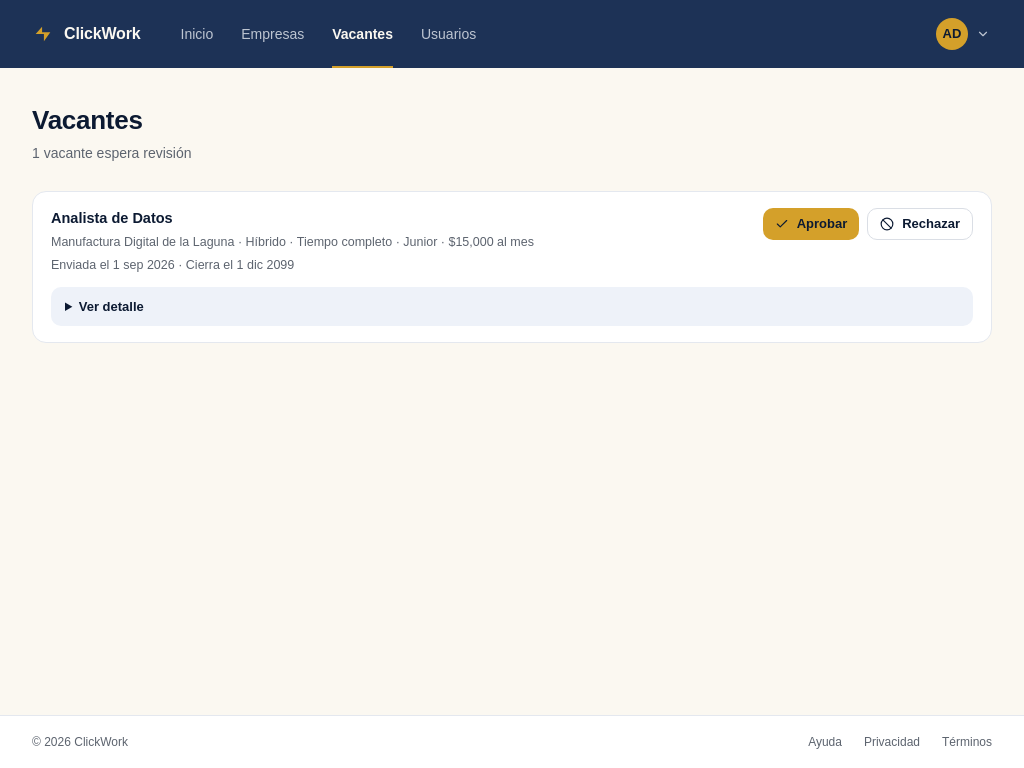
Test: AdminJobsPage › rejects a posting with a reason
The width and height of the screenshot is (1024, 768).
Click the button with aria-label "Rechazar Analista de Datos": click(920, 224) 867,208 -> 973,240
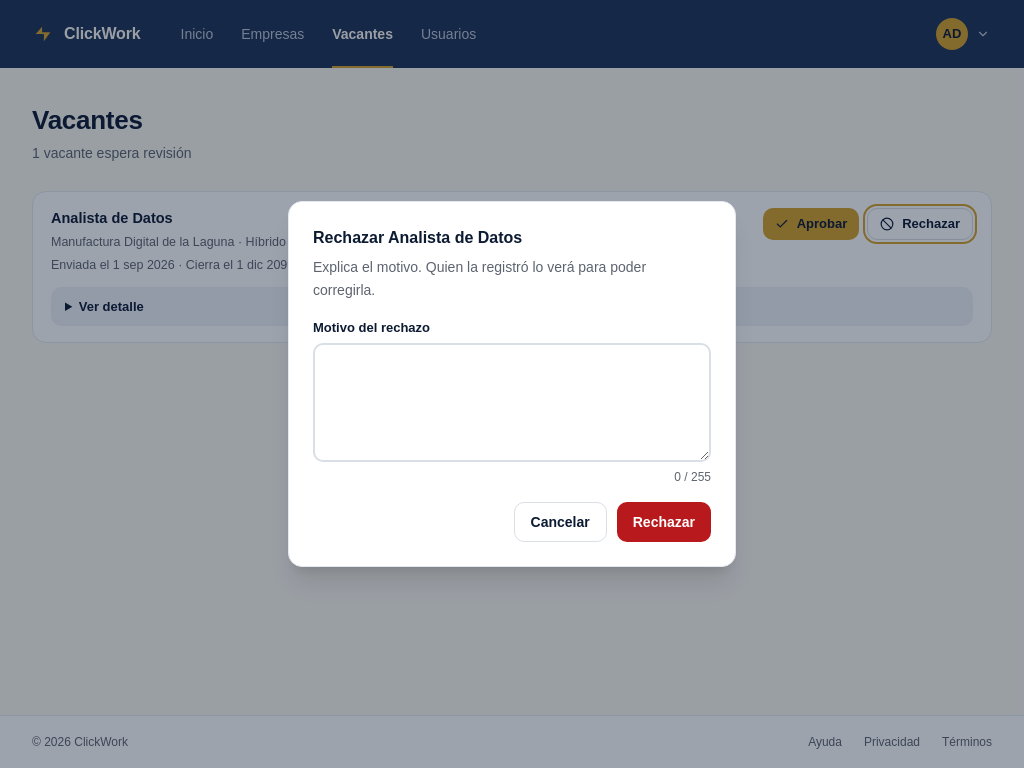
In the text box labelled "Motivo del rechazo": (512, 402) 313,343 -> 711,462, type "Falta el sueldo"
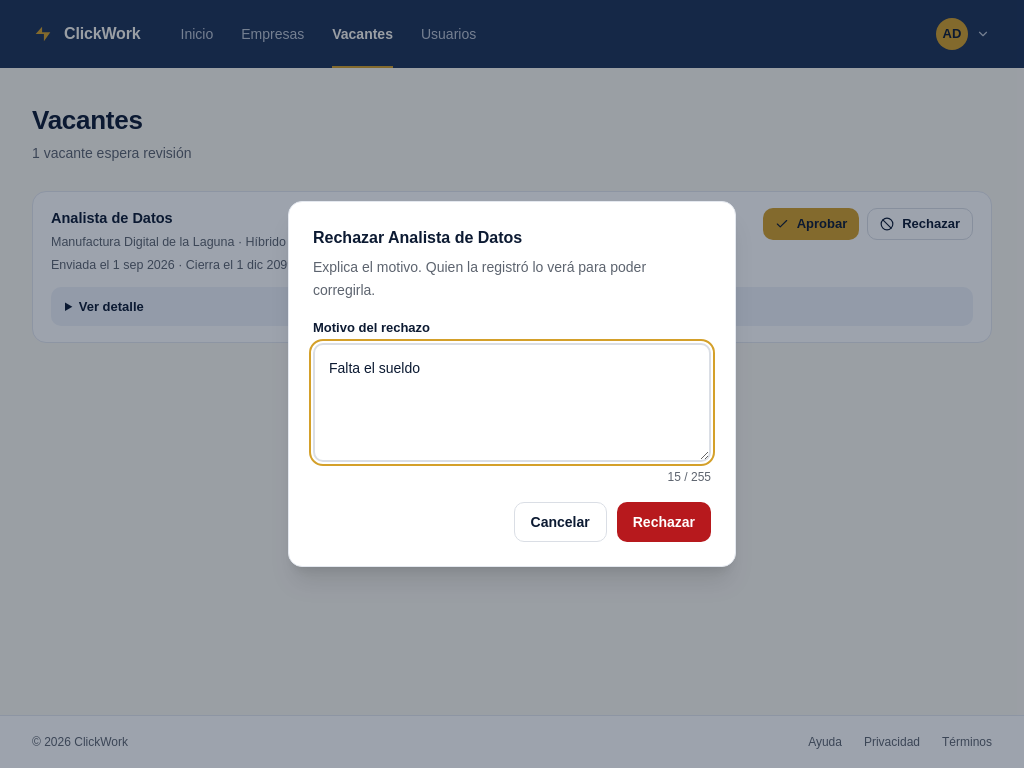
Click the button "Rechazar": click(664, 522) 617,502 -> 711,542
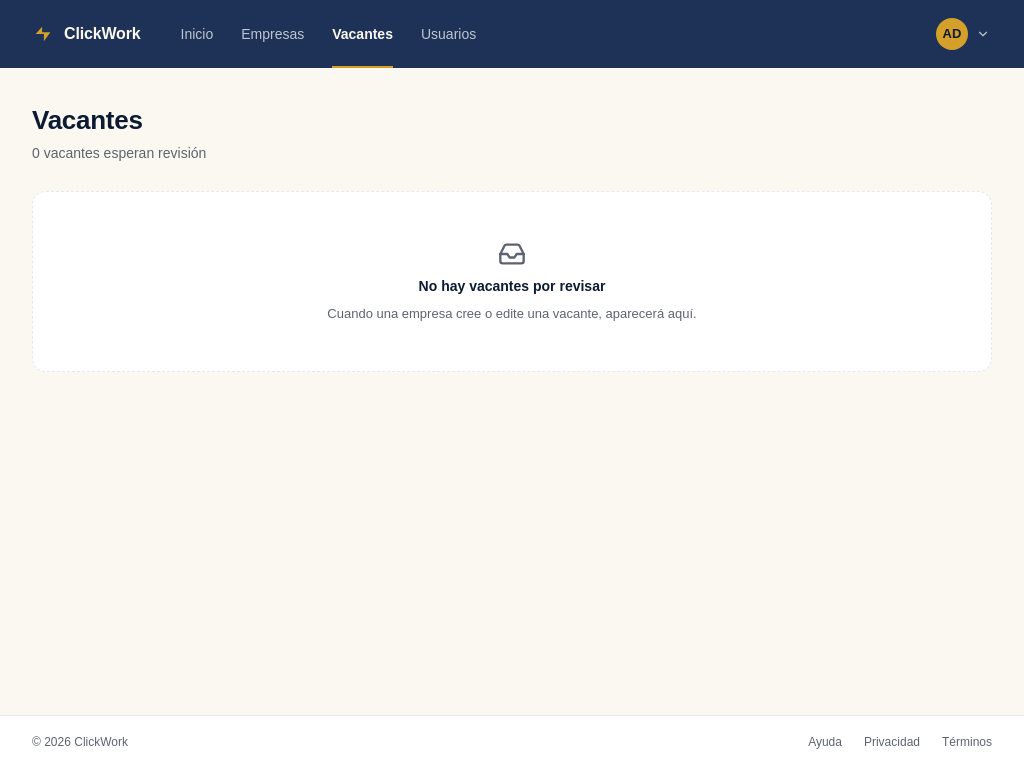
Expected: the text "No hay vacantes por revisar" is shown, 419,276 -> 605,296
